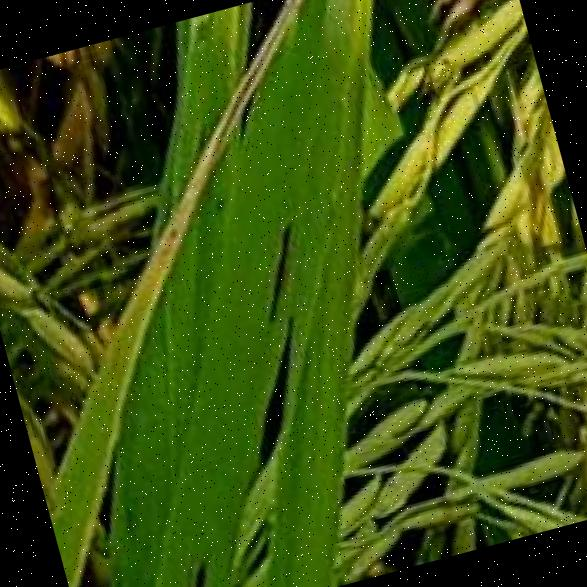Bacteria_Leaf_Blight: (66, 0, 390, 289)
